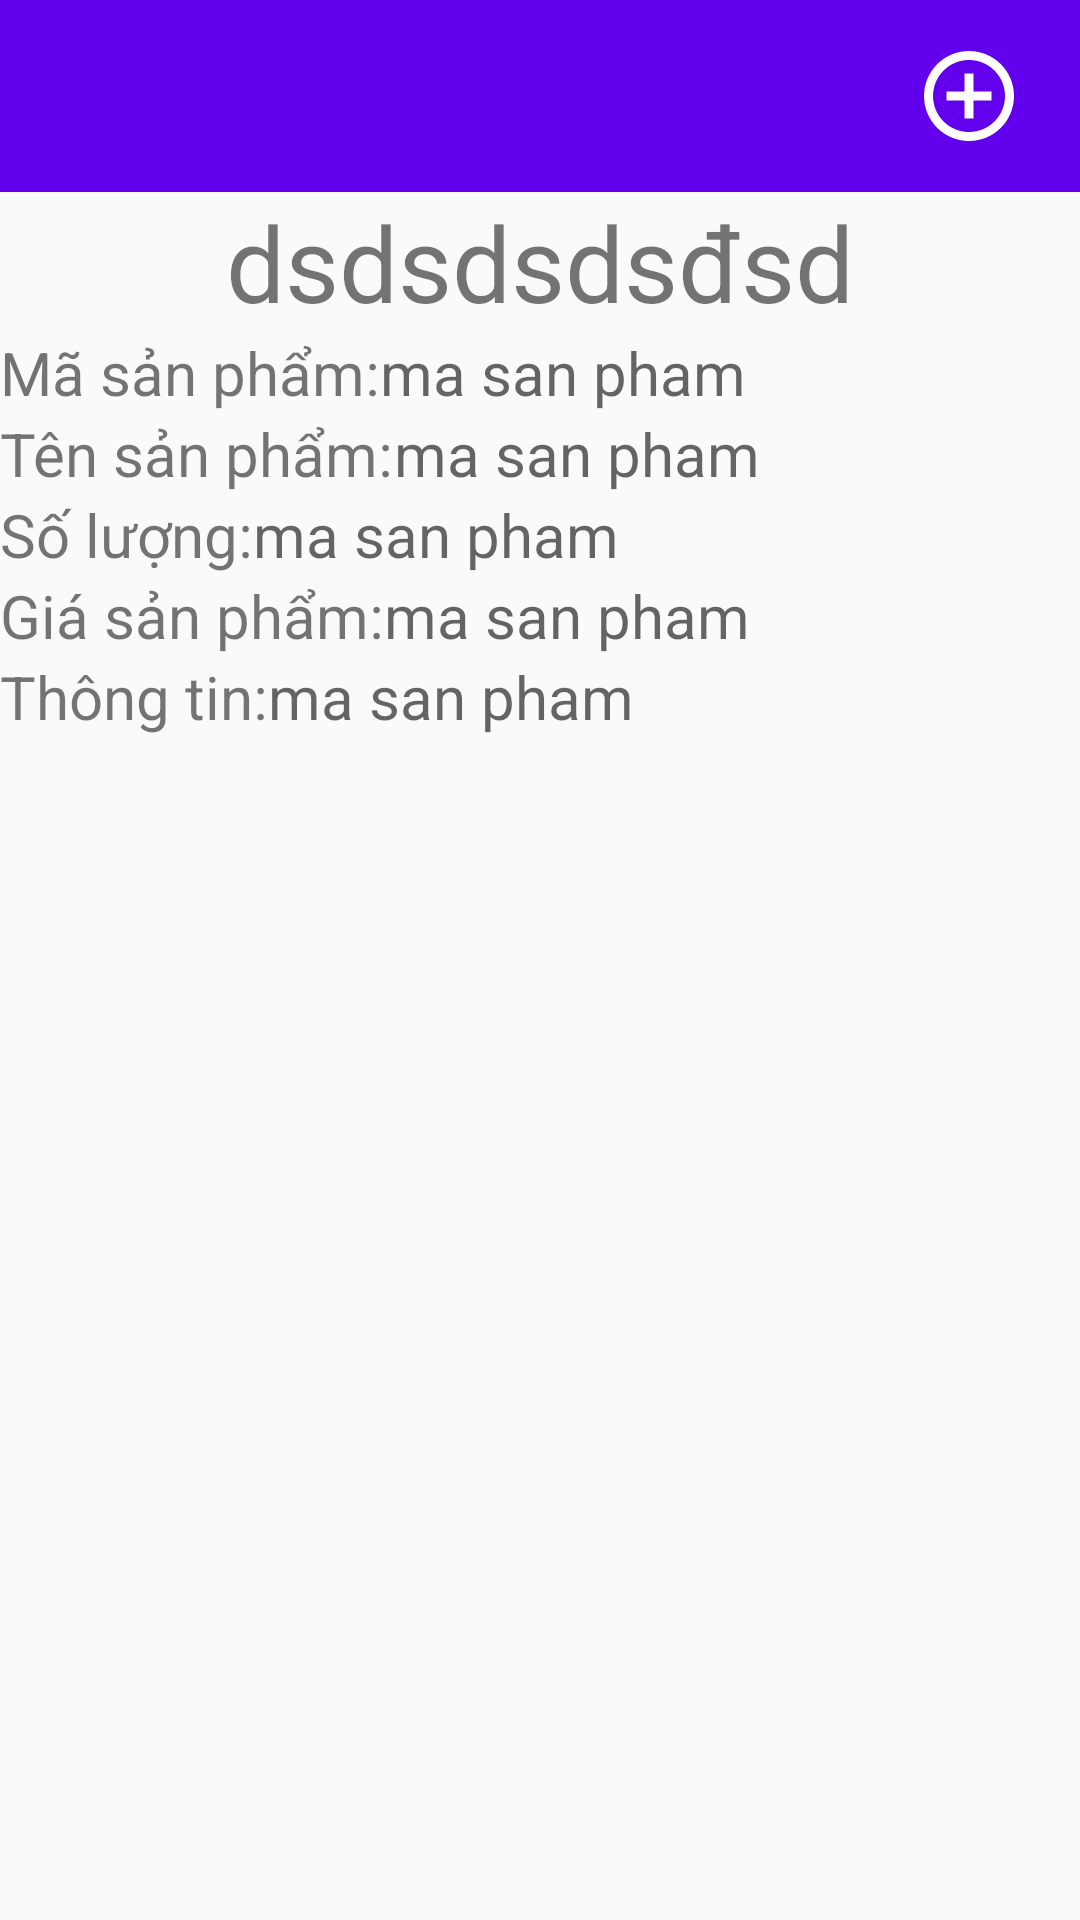

Where icons sit on this 1080*1920 app screen, as (left=x1, top=y1, right=x2, bottom=y2):
add circle: (left=924, top=51, right=1014, bottom=141)
